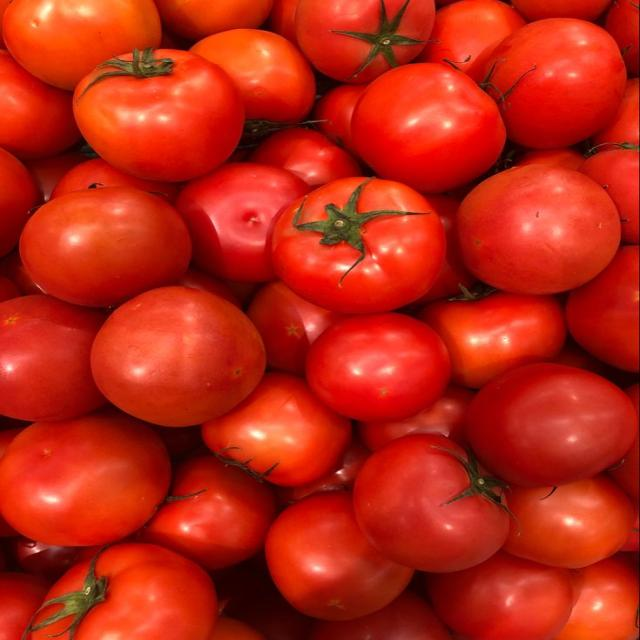tomato: (91, 286, 265, 426), (272, 177, 445, 313), (0, 409, 170, 545), (74, 48, 244, 181), (354, 433, 509, 572), (465, 363, 637, 487), (458, 165, 620, 294), (20, 187, 191, 306), (351, 63, 505, 193), (265, 491, 413, 620), (484, 18, 626, 148), (27, 543, 217, 639), (203, 373, 351, 486), (136, 454, 276, 570), (176, 162, 310, 282), (306, 313, 451, 420), (418, 291, 566, 388), (3, 0, 161, 90), (0, 294, 106, 421), (425, 551, 573, 639), (504, 474, 633, 568), (189, 29, 316, 122), (296, 0, 435, 83), (566, 245, 639, 372), (247, 280, 343, 376), (416, 0, 526, 81), (0, 50, 80, 159), (356, 384, 475, 451), (410, 194, 477, 309), (553, 555, 639, 639), (309, 589, 450, 639), (248, 127, 362, 188), (277, 434, 370, 505), (578, 147, 639, 243), (51, 158, 179, 203), (155, 0, 273, 41), (0, 148, 39, 256), (310, 84, 366, 155), (590, 78, 639, 150), (25, 147, 88, 203), (8, 536, 85, 581), (0, 571, 50, 639), (176, 264, 242, 308), (604, 0, 639, 77), (512, 0, 611, 22), (609, 434, 639, 500), (513, 147, 585, 169), (263, 0, 297, 46), (208, 616, 267, 639)
